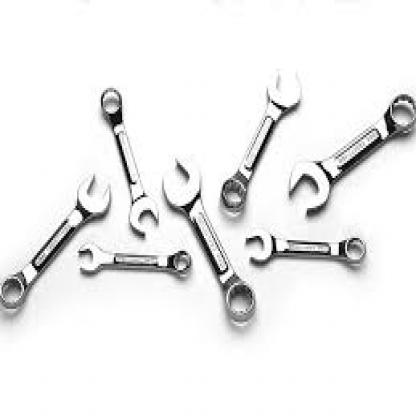Wrench: (287, 91, 416, 222), (161, 154, 258, 324), (0, 171, 112, 313), (221, 66, 302, 220), (98, 85, 163, 239), (241, 224, 369, 270), (78, 240, 192, 286)
